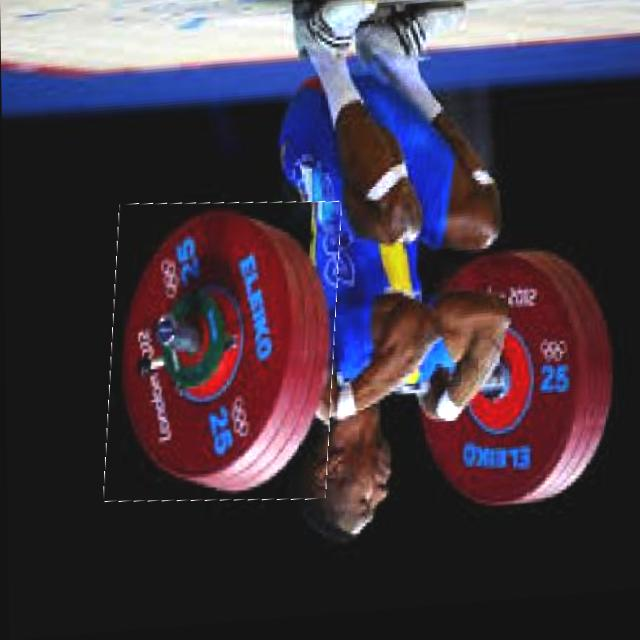barbell: (104, 197, 340, 515)
